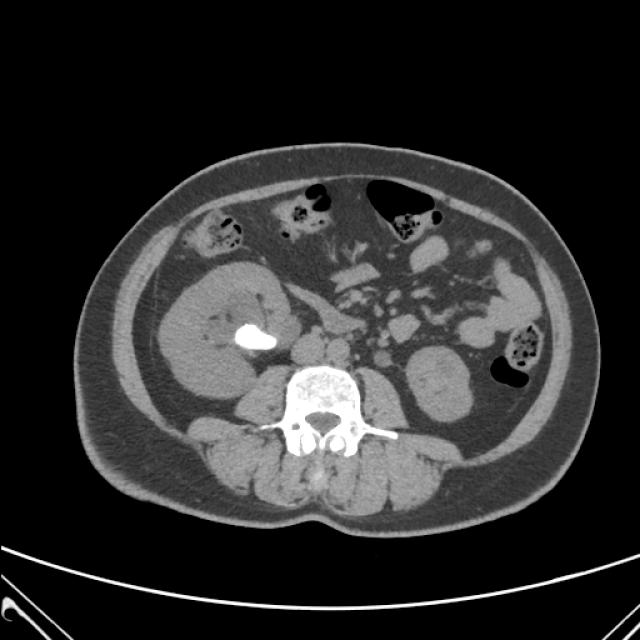kidney: (159, 257, 298, 398), (398, 342, 482, 428)
stone: (230, 320, 280, 353)
